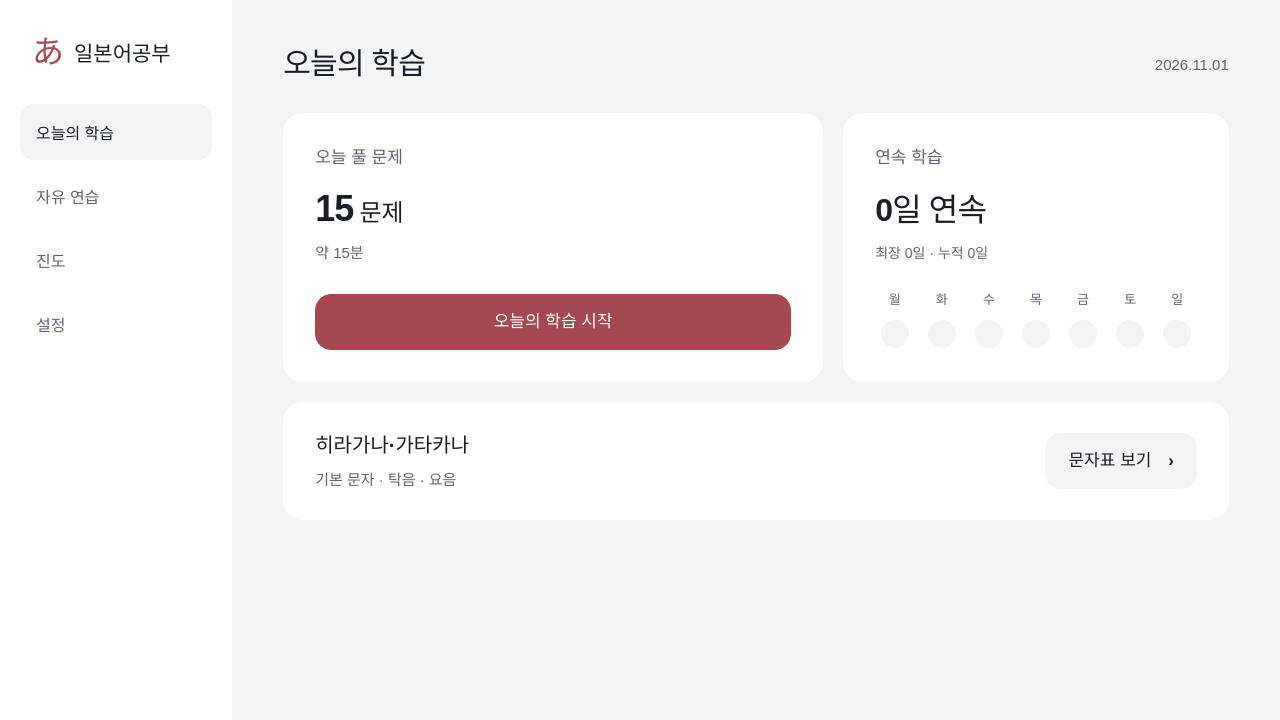
app navigation › shows progress separately for each chapter
Click the button "진도". click: (116, 260)
box: [20, 232, 212, 288]
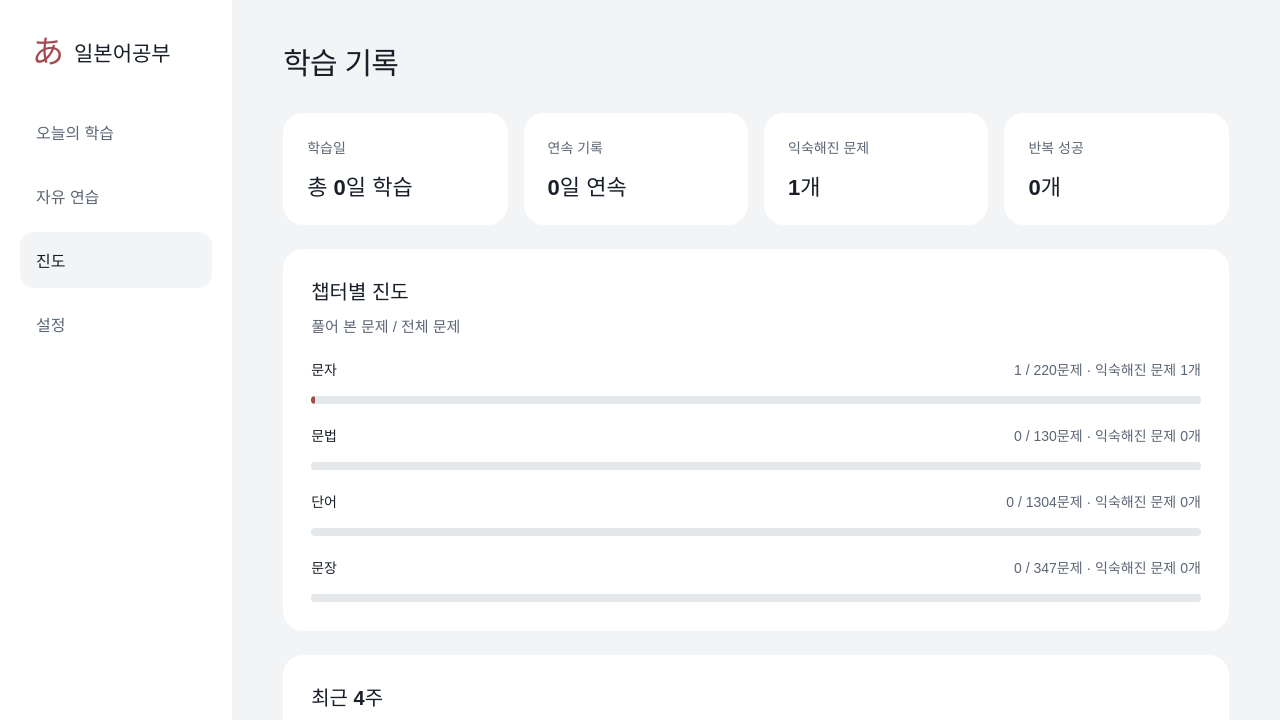
Expected: the progress indicator named "문자 학습 진도" holds "1", [311, 396, 1201, 404]
Expected: the progress indicator named "문법 학습 진도" holds "0", [311, 462, 1201, 470]
